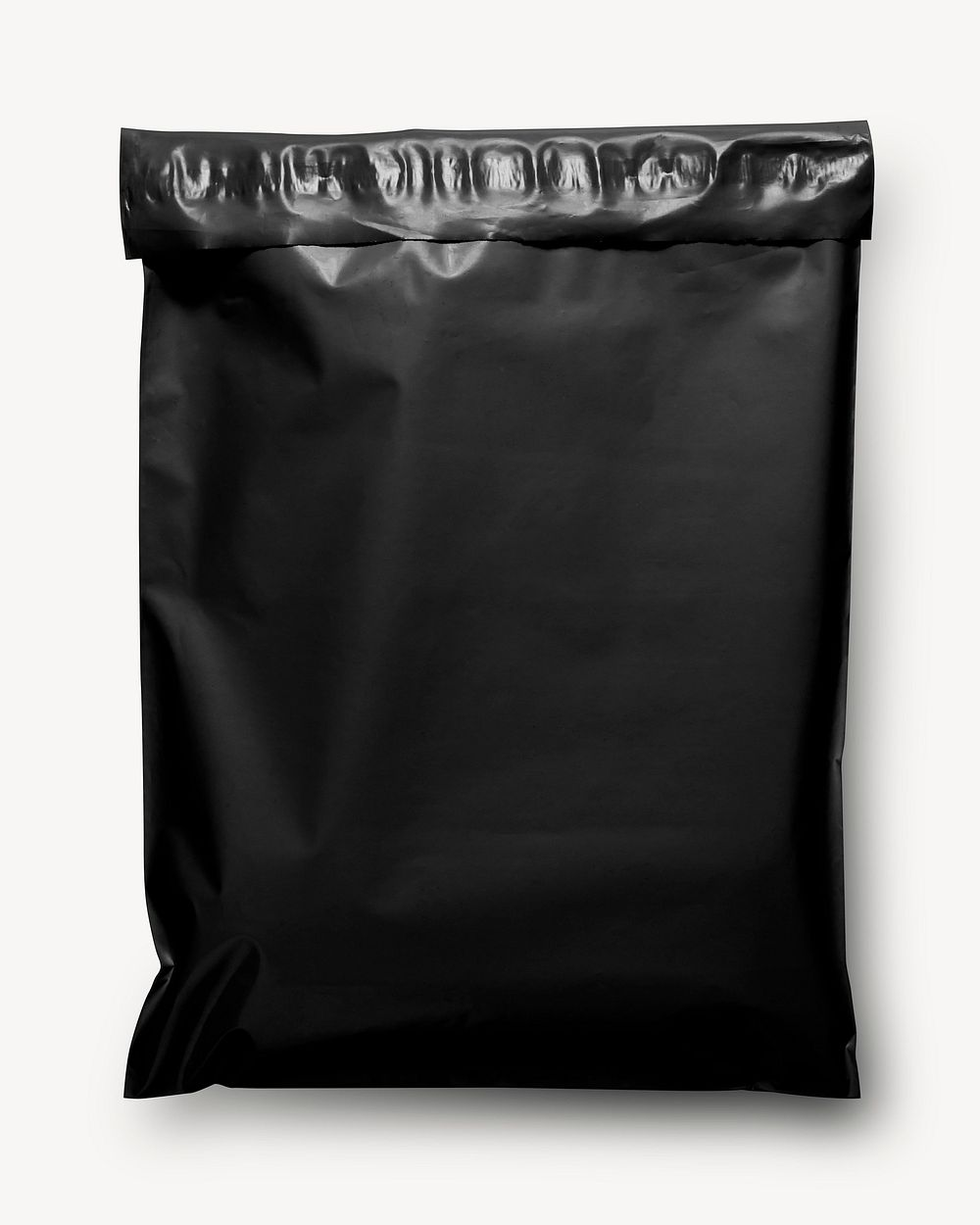Parcel: (121, 122, 874, 1098)
